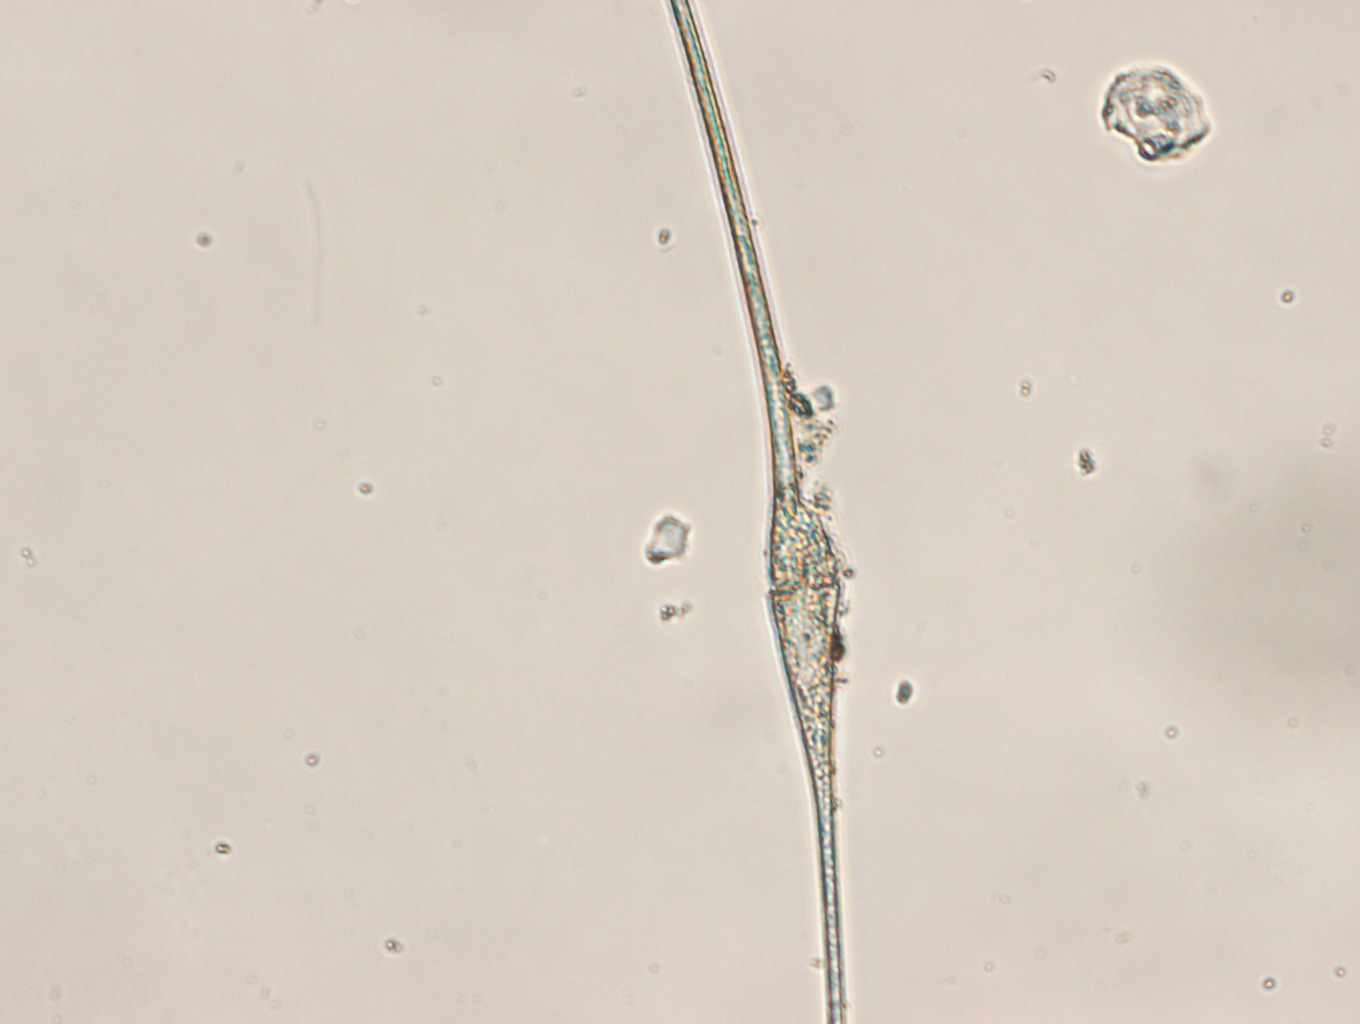ceratium fusus: (667, 1, 845, 1024)
